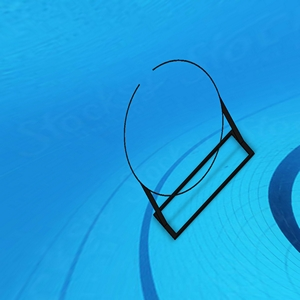circle: (122, 56, 259, 242)
